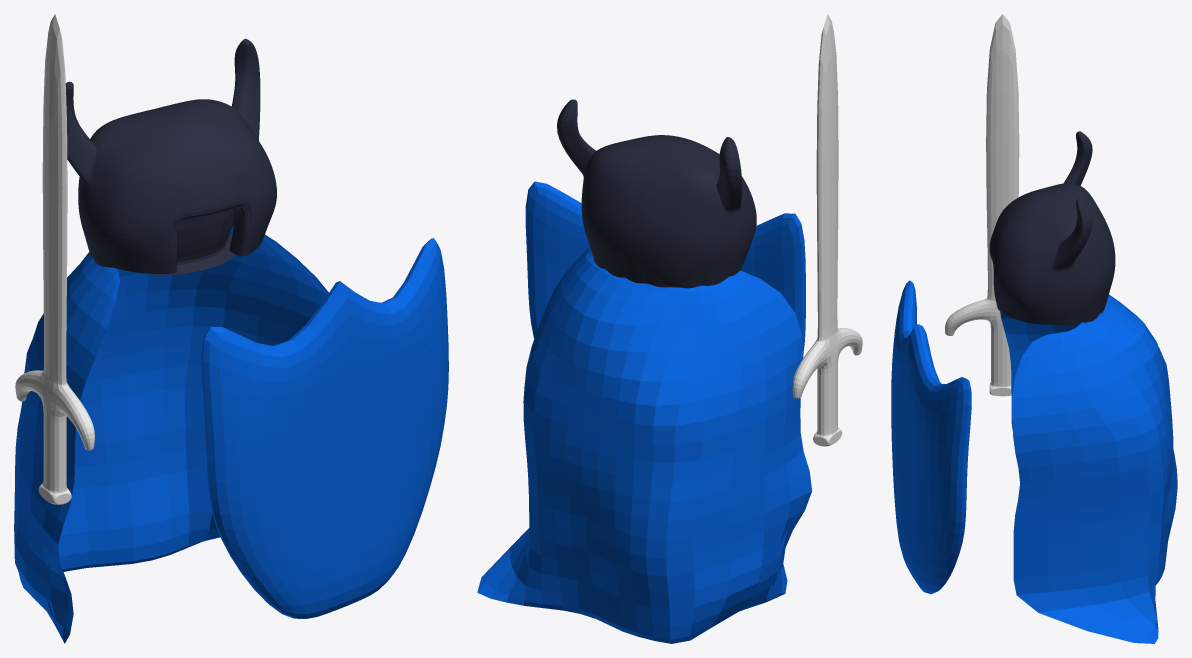
Rendered from KnightLeague.fbx.
3 views of the same model, side by side, from view 1: azimuth 30°, elevation 25°; view 2: azimuth 150°, elevation 25°; view 3: azimuth 270°, elevation 25° (orthographic). The views are drawn at different scales.
Parts seen in each view (by area): view 1: Carry, cloak, body, knight; view 2: cloak, body, Carry, knight; view 3: cloak, Carry, body, knight.
Part boxes in pixels (x1,y1,x2,y2): Carry: [201, 238, 448, 618]; cloak: [14, 224, 328, 643]; body: [65, 38, 276, 274]; knight: [15, 14, 94, 504]; cloak: [477, 247, 811, 643]; body: [557, 99, 756, 288]; Carry: [525, 181, 805, 354]; knight: [792, 14, 862, 446]; cloak: [1000, 294, 1177, 643]; Carry: [891, 280, 971, 594]; body: [989, 131, 1115, 325]; knight: [945, 14, 1019, 396].
Size of the model in its own units: 124 by 209 by 105.
